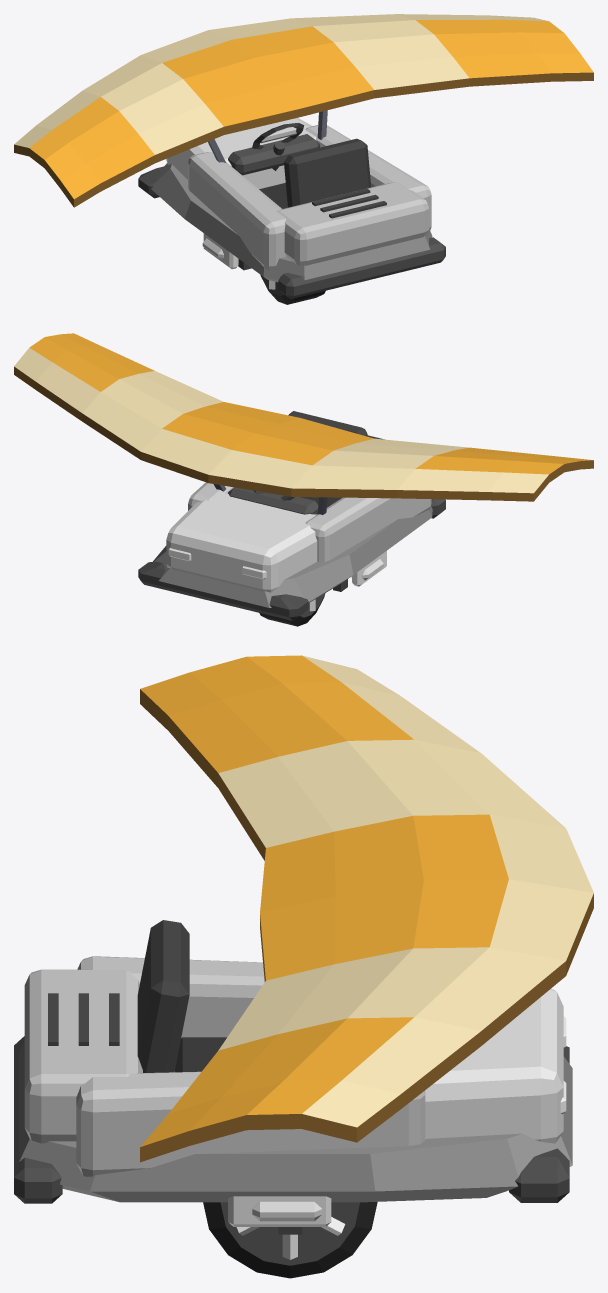
The model's file is kart_variants.glb.
The picture shows the model from 3 angles, top to bottom: view 1: azimuth 30°, elevation 25°; view 2: azimuth 150°, elevation 25°; view 3: azimuth 270°, elevation 25°; orthographic projection. The views are drawn at different scales.
Parts seen in each view (by area): view 1: kart_glider_02, kart_chassis_02, kart_spoiler_02, kart_wheel_02; view 2: kart_glider_02, kart_chassis_02, kart_spoiler_02, kart_wheel_02; view 3: kart_glider_02, kart_chassis_02, kart_wheel_02, kart_spoiler_02.
Part boxes in pixels (x1=…): kart_glider_02: x1=14, y1=14, x2=593, y2=207; kart_chassis_02: x1=138, y1=117, x2=445, y2=298; kart_spoiler_02: x1=202, y1=233, x2=251, y2=270; kart_wheel_02: x1=260, y1=275, x2=325, y2=304; kart_glider_02: x1=14, y1=333, x2=593, y2=514; kart_chassis_02: x1=138, y1=411, x2=445, y2=620; kart_spoiler_02: x1=333, y1=551, x2=386, y2=591; kart_wheel_02: x1=259, y1=593, x2=325, y2=626; kart_glider_02: x1=140, y1=655, x2=593, y2=1162; kart_chassis_02: x1=14, y1=920, x2=572, y2=1203; kart_wheel_02: x1=203, y1=1202, x2=377, y2=1278; kart_spoiler_02: x1=228, y1=1196, x2=331, y2=1234.
Bounding box in the file's own units: 3.57 × 1.41 × 1.91.
